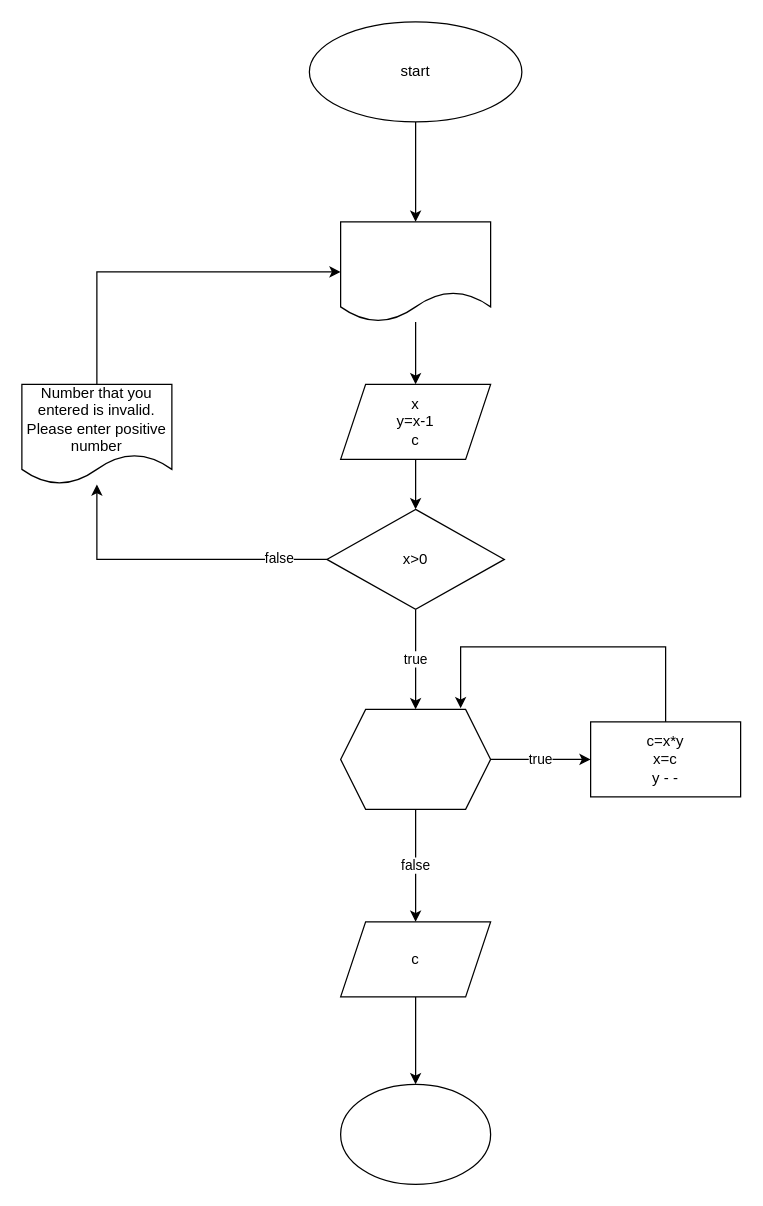
Some shapes in this 763 by 1206 pixel diagram are drawn without their labels. Here are the shapes that lost their labels. From the top down, the centre of each, then its label:
the point at 415,271: Please enter the number that you want to calculate its factorial
the point at 415,758: x>1
the point at 415,1133: end
